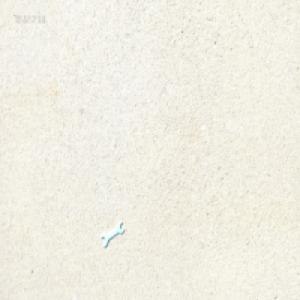Wrench: (101, 218, 124, 247)
